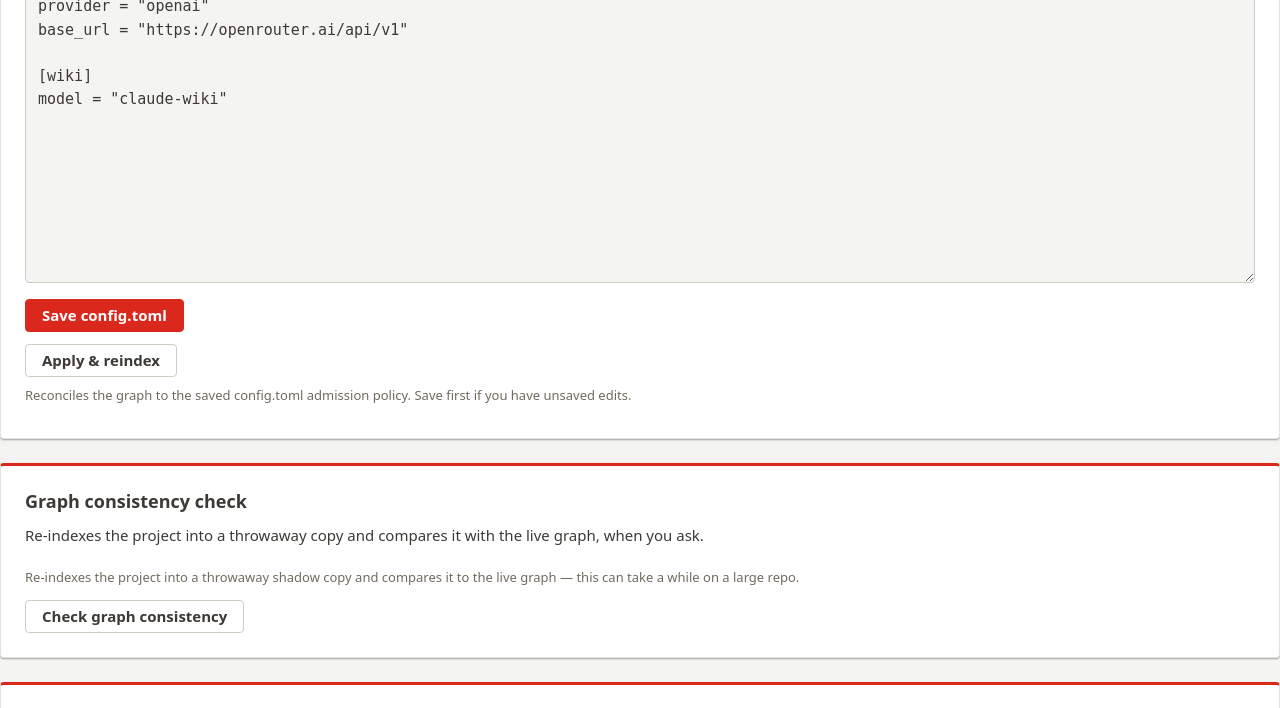
ConfigView explicit Apply, decoupled from Save (FR-UI-13) › renders the honest reconcile outcome and only Apply hits /config/apply
(page scrolled)
Click the button "Apply & reindex". click: (101, 361)
box: left=25, top=344, right=177, bottom=378
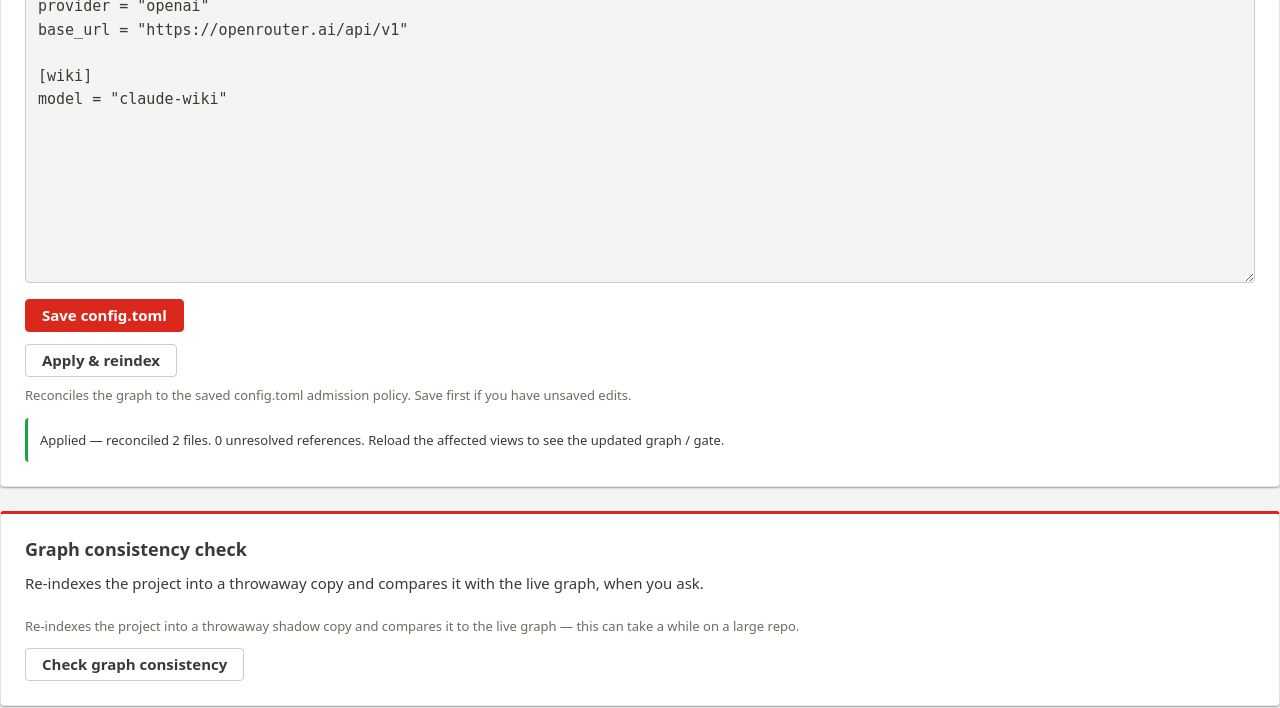
Result: the text "Applied — reconciled 2 files." is shown at left=40, top=431, right=724, bottom=449
